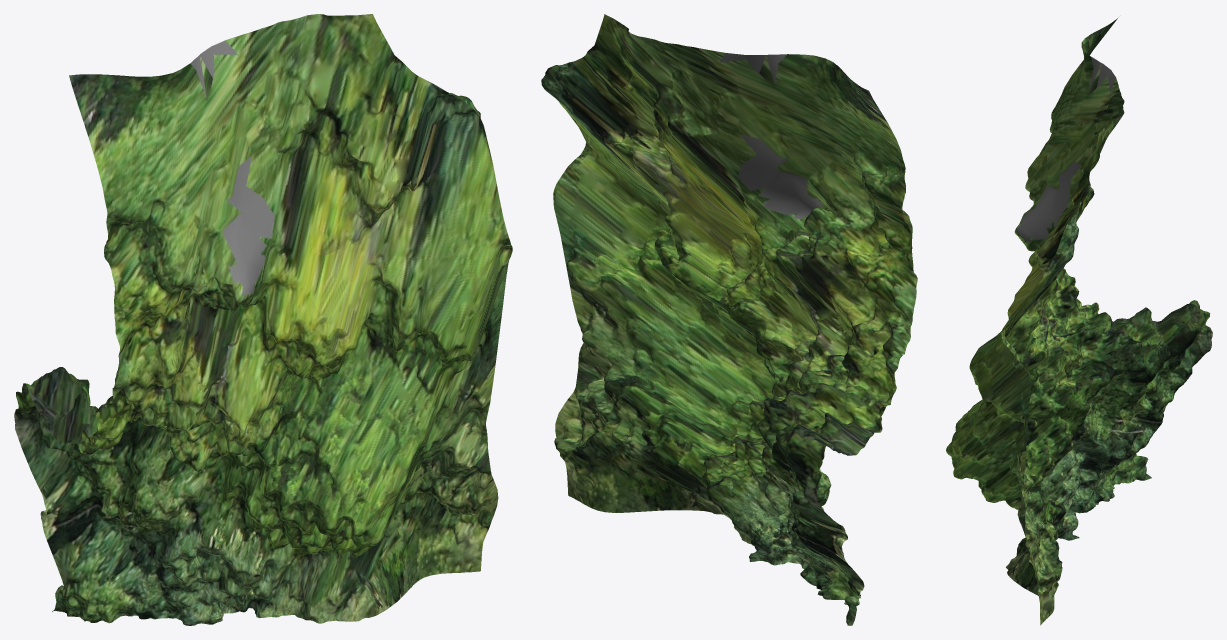
File: Tile_+015_+030.fbx
3 renders of one model, left to right at view 1: azimuth 30°, elevation 25°; view 2: azimuth 150°, elevation 25°; view 3: azimuth 270°, elevation 25°, orthographic. The views are drawn at different scales.
Parts seen in each view (by area): view 1: DefaultName; view 2: DefaultName; view 3: DefaultName.
Boxes of the visible parts, <box> form: DefaultName: <box>14,14,512,625</box>; DefaultName: <box>541,14,917,625</box>; DefaultName: <box>946,18,1212,625</box>.
Bounding box in the file's own units: 16.55 × 22.54 × 11.79.
